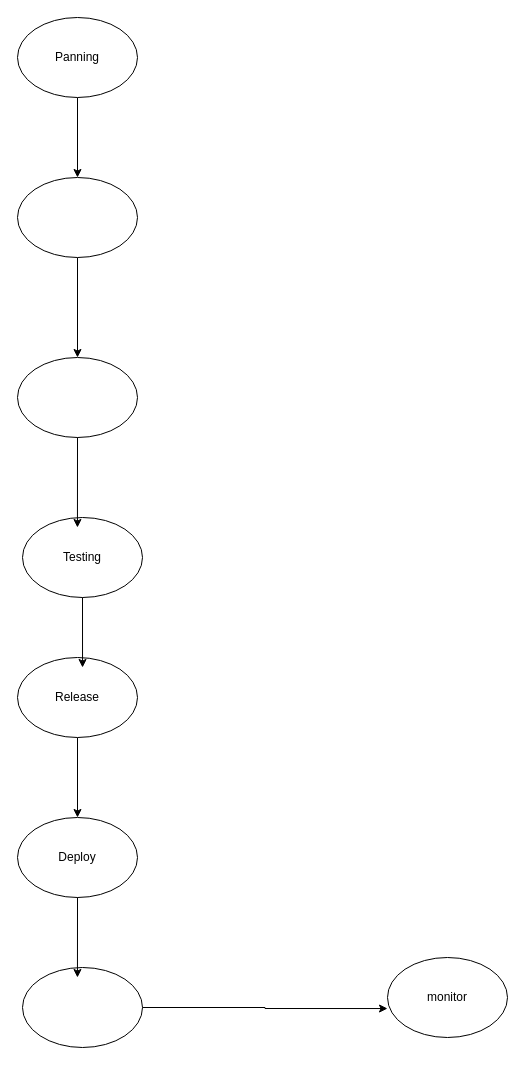
Some shapes in this 525 by 1065 pixel diagram are drawn without their labels. Here are the shapes that lost their labels. From the top down, the centre of each, then its label:
(x=77, y=217): Develop
(x=77, y=397): Build
(x=82, y=1007): Operate
